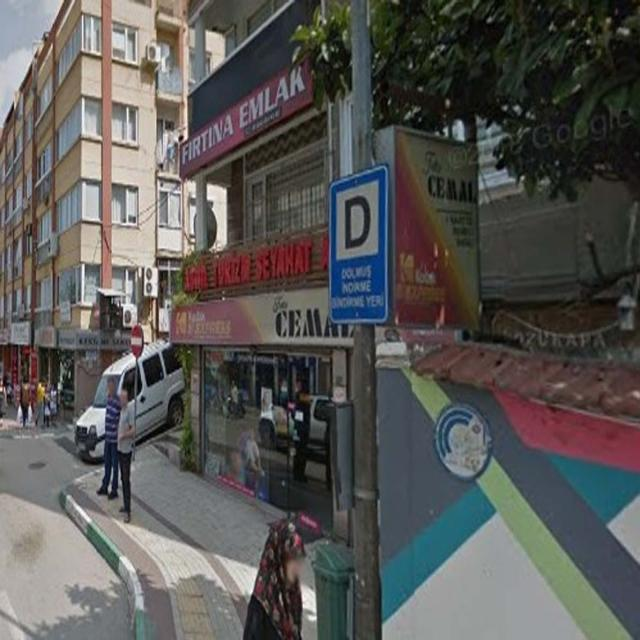durak: (331, 171, 386, 266)
girisyok: (130, 326, 144, 358)
